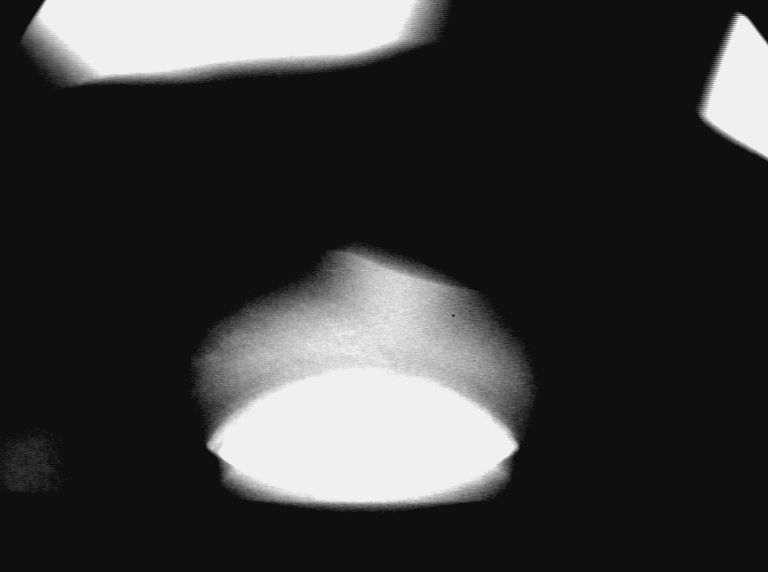defect: (337, 240, 477, 309)
